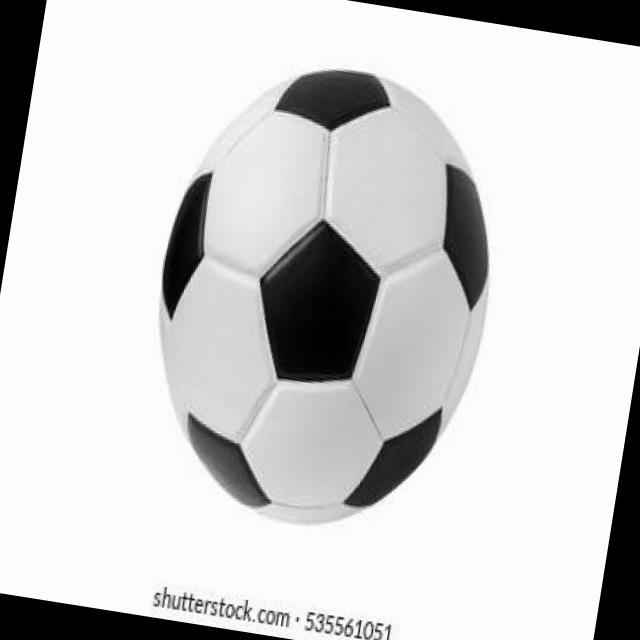Soccer Ball: (128, 46, 521, 546)
